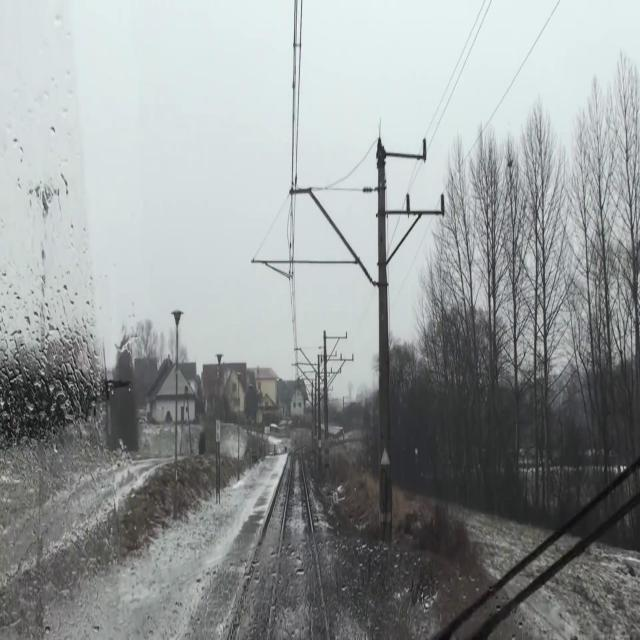rail-track: (271, 455, 324, 639)
